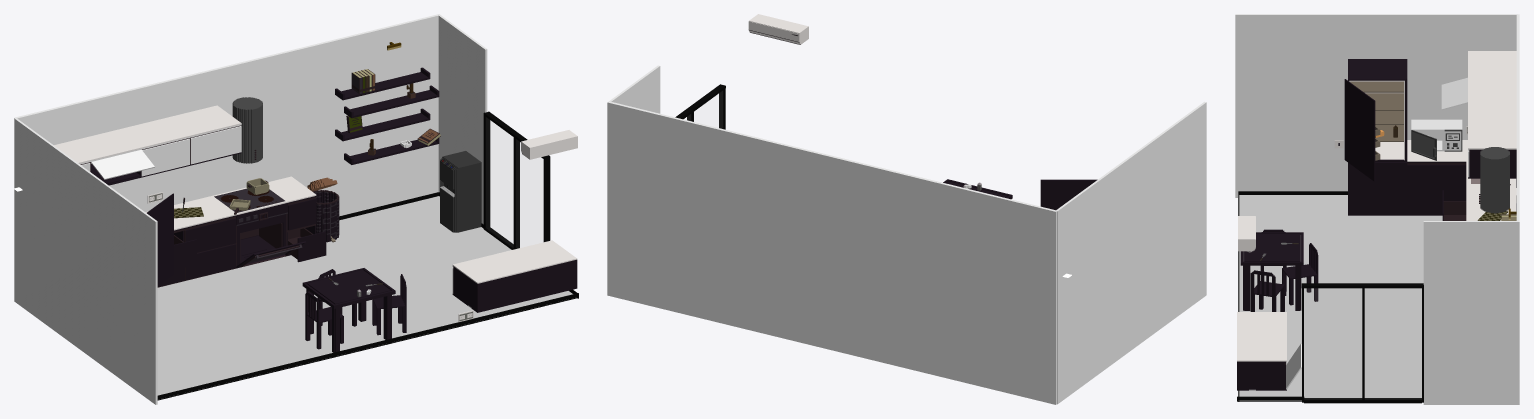
The picture shows the model from 3 angles, left to right: view 1: azimuth 30°, elevation 25°; view 2: azimuth 150°, elevation 25°; view 3: azimuth 270°, elevation 25°; orthographic projection. The views are drawn at different scales.
Parts seen in each view (by area): view 1: node_Cube (21)_-1190_14, node_Plane (2)_-1198_17, node_Cube (20)_-1182_12, node_Cube (25)_-1188_13, node_KitchenShelfUP_-1108_7, node_Furnace_14480_157, node_Table_-1542_45, node_ Cooler_14446_154, node_KitchenShelfUP_-121256_162, node_Cube (3)_-1200_18, node_KitchenShelfUP_-1140_10, node_hood extractor_14230_139 (+24 smaller); view 2: node_Cube (21)_-1190_14, node_Cube (20)_-1182_12, node_Cube (25)_-1188_13, node_Conditioner_14460_156, node_ Fridge1_-1694_56; view 3: node_Cube (20)_-1182_12, node_Plane (2)_-1198_17, node_Cube (25)_-1188_13, node_ Fridge_-1696_57, node_KitchenShelfUP_-1108_7, node_KitchenShelfUP_-121256_162, node_ Fridge2_-1698_58, node_KitchenShelf2_1_-1500_42, node_ Fridge1_-1694_56, node_Table_-1542_45, node_KitchenShelfUP_-1140_10, node_hood extractor_14230_139 (+16 smaller).
Part boxes in pixels (x1,y1,x2,y2): node_Cube (21)_-1190_14: [14, 14, 439, 216]; node_Plane (2)_-1198_17: [157, 196, 572, 395]; node_Cube (20)_-1182_12: [14, 118, 157, 404]; node_Cube (25)_-1188_13: [438, 14, 487, 224]; node_KitchenShelfUP_-1108_7: [452, 240, 577, 312]; node_Furnace_14480_157: [212, 187, 287, 268]; node_Table_-1542_45: [302, 268, 395, 352]; node_ Cooler_14446_154: [440, 151, 481, 232]; node_KitchenShelfUP_-121256_162: [118, 105, 241, 177]; node_Cube (3)_-1200_18: [157, 293, 578, 400]; node_KitchenShelfUP_-1140_10: [54, 129, 141, 185]; node_hood extractor_14230_139: [232, 97, 262, 163]; node_Cube (21)_-1190_14: [608, 101, 1056, 404]; node_Cube (20)_-1182_12: [1056, 101, 1206, 404]; node_Cube (25)_-1188_13: [607, 65, 660, 295]; node_Conditioner_14460_156: [748, 14, 808, 44]; node_ Fridge1_-1694_56: [1040, 179, 1097, 210]; node_Cube (20)_-1182_12: [1235, 14, 1517, 197]; node_Plane (2)_-1198_17: [1238, 195, 1442, 400]; node_Cube (25)_-1188_13: [1423, 221, 1519, 404]; node_ Fridge_-1696_57: [1348, 59, 1407, 162]; node_KitchenShelfUP_-1108_7: [1237, 312, 1286, 390]; node_KitchenShelfUP_-121256_162: [1468, 99, 1516, 178]; node_ Fridge2_-1698_58: [1348, 162, 1407, 215]; node_KitchenShelf2_1_-1500_42: [1407, 164, 1466, 215]; node_ Fridge1_-1694_56: [1344, 79, 1380, 181]; node_Table_-1542_45: [1240, 232, 1303, 310]; node_KitchenShelfUP_-1140_10: [1468, 51, 1516, 99]; node_hood extractor_14230_139: [1479, 147, 1509, 213].
Size of the model in its own units: 6.6 by 2.66 by 3.75.
Materials: 41 (35 with a texture image).
